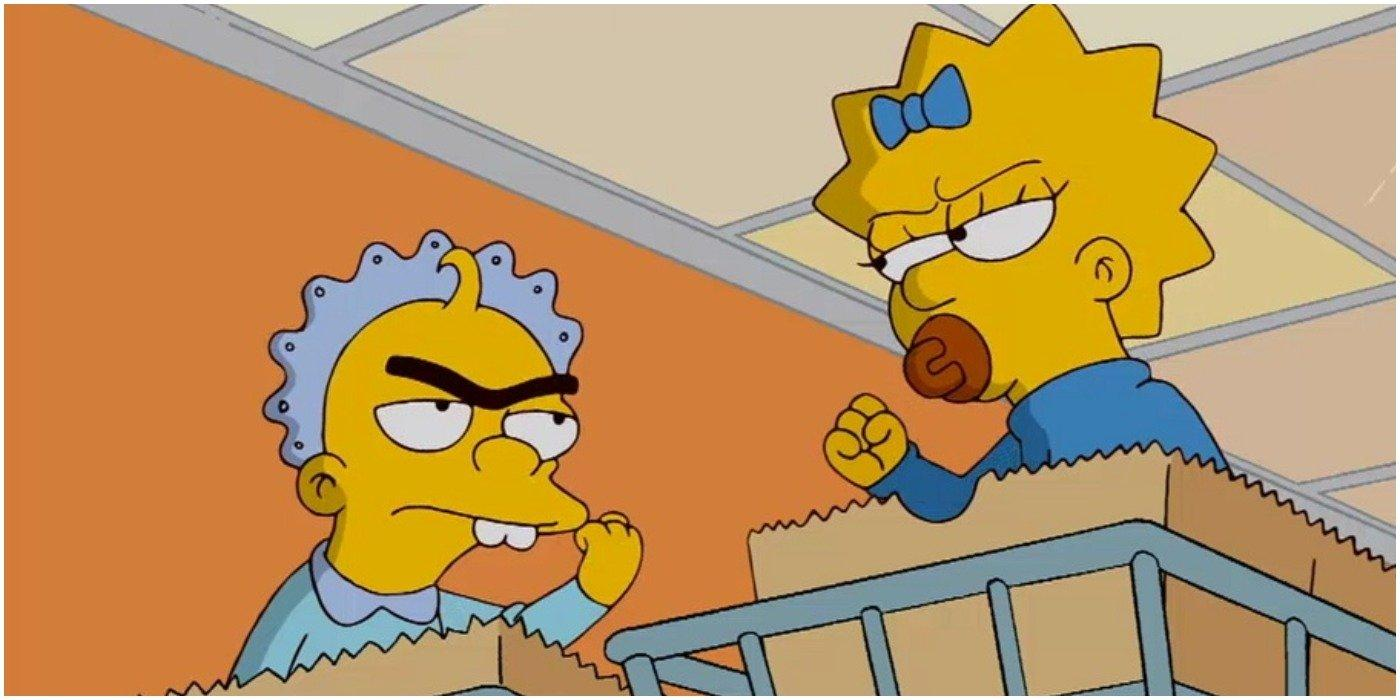Maggie: (771, 0, 1277, 521)
